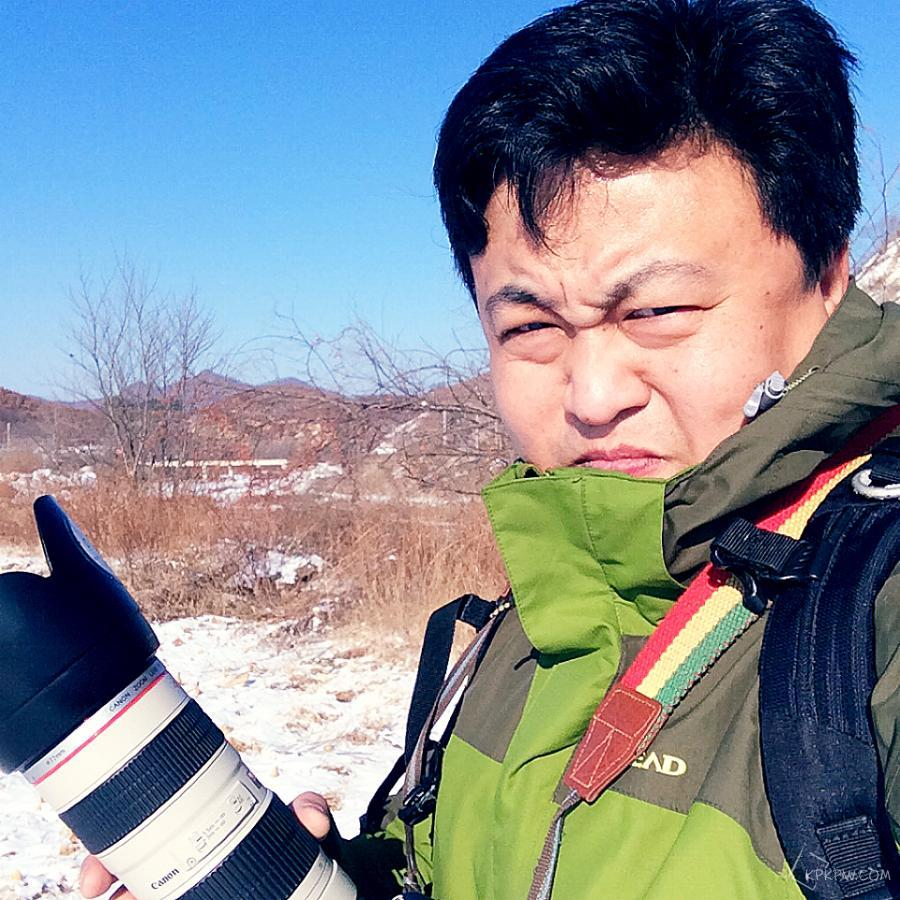face_mask: (480, 139, 780, 522)
